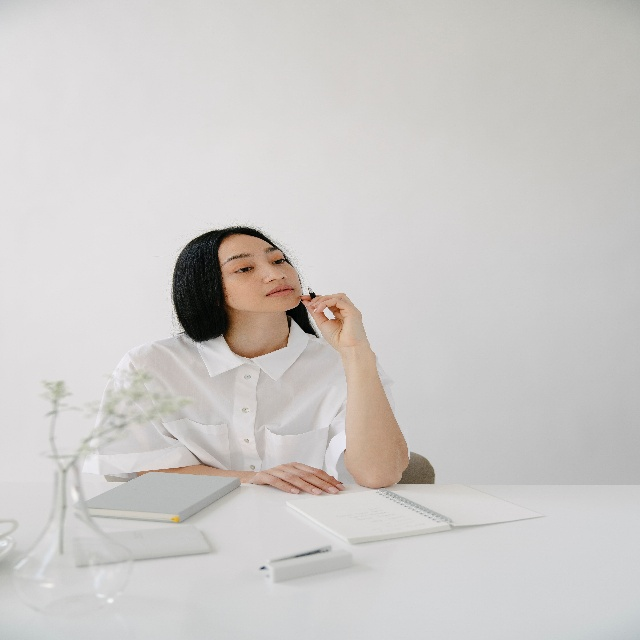Sin_guantes: (299, 285, 369, 352), (249, 460, 345, 498)
